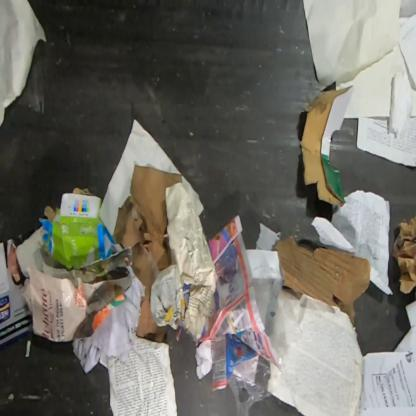cardboard: (272, 237, 372, 327), (38, 187, 124, 270), (300, 86, 354, 206), (0, 238, 32, 351)
soft_plastic: (198, 213, 288, 415), (150, 265, 190, 331)
